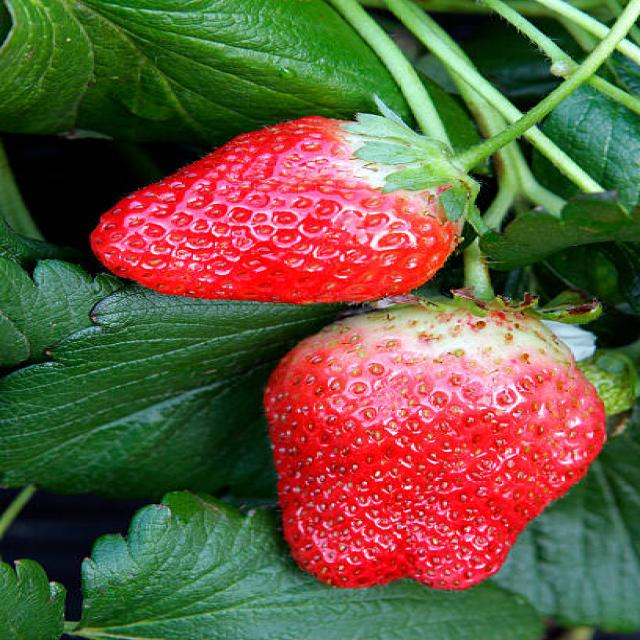Healthy Fruit: (263, 306, 605, 588), (91, 114, 464, 307)
